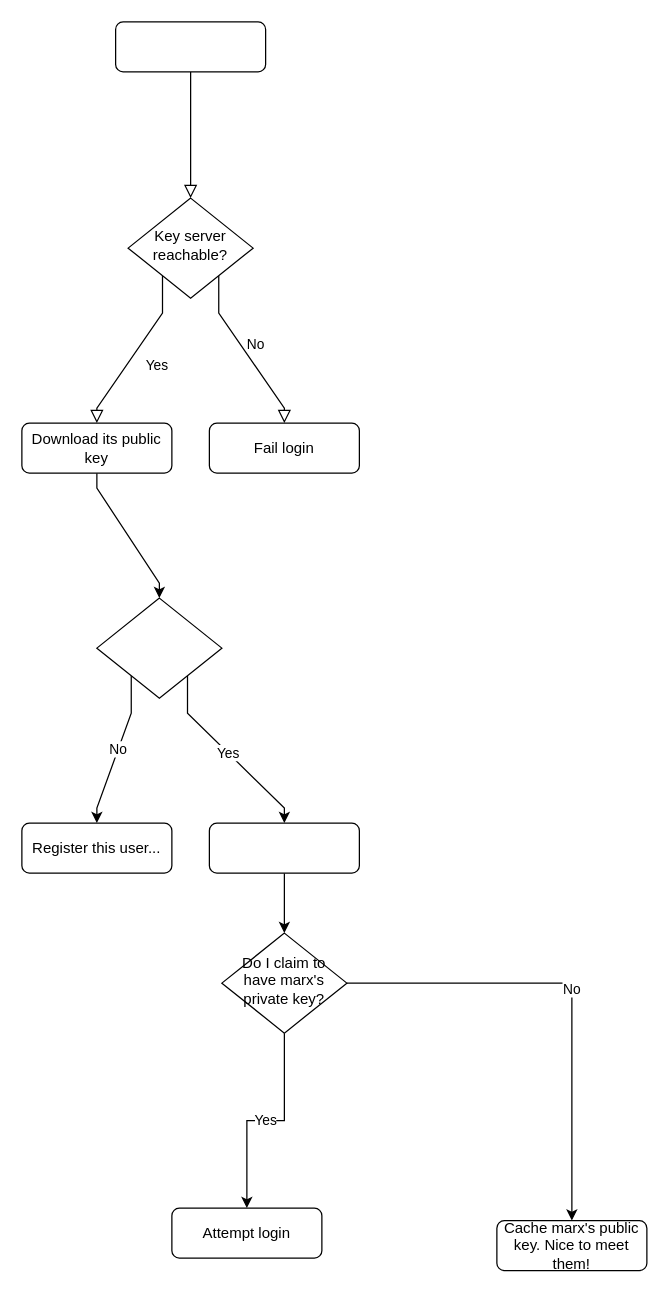
The diagram is 669 pixels wide and 1294 high, and some of its shapes have lost their labels. Here are the shapes that lost their labels. From the top down, the centre of each, then its label:
(x=190, y=46): I try to login/register with username "marx"
(x=159, y=647): Keyserver have key for username "marx"?
(x=283, y=847): Login
